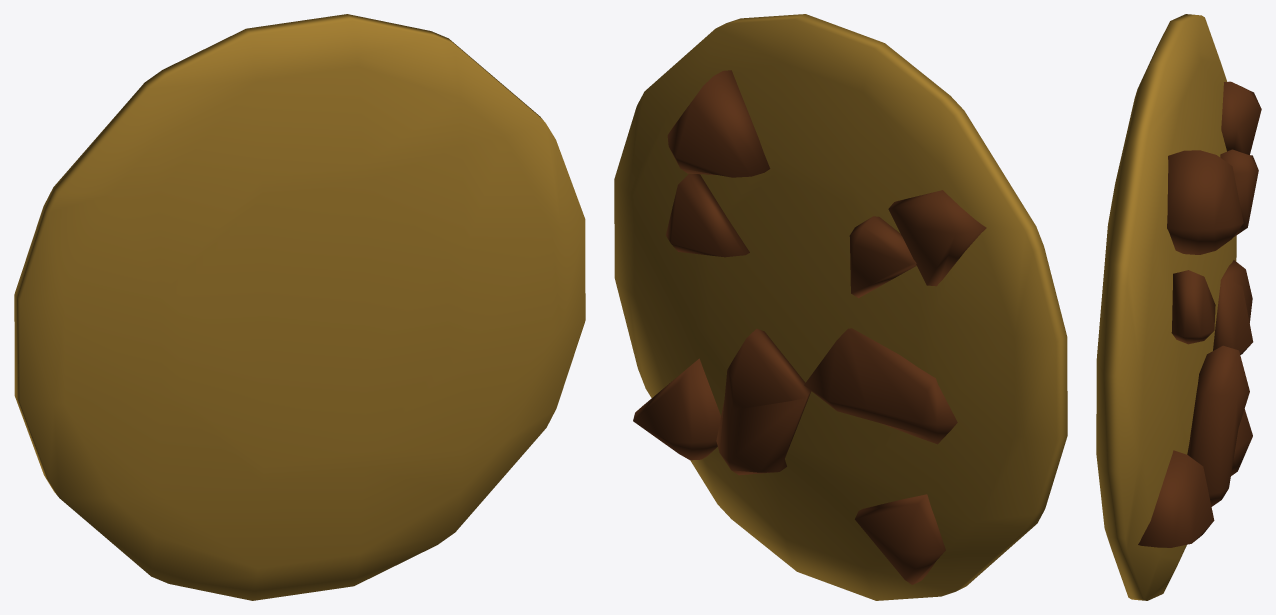
Rendered from Cookie colo gg.fbx.
The picture shows the model from 3 angles, left to right: view 1: azimuth 30°, elevation 25°; view 2: azimuth 150°, elevation 25°; view 3: azimuth 270°, elevation 25°; orthographic projection. The views are drawn at different scales.
Parts seen in each view (by area): view 1: Cookie; view 2: Cookie, Mball.002, Mball.001; view 3: Cookie, Mball.002, Mball.001.
Part boxes in pixels (x1,y1,x2,y2): Cookie: (14, 14, 585, 600); Cookie: (614, 14, 1067, 600); Mball.002: (667, 70, 945, 584); Mball.001: (633, 174, 986, 460); Cookie: (1096, 14, 1236, 600); Mball.002: (1167, 149, 1258, 506); Mball.001: (1138, 81, 1261, 547).
Size of the model in its own units: 278 by 293 by 82.99.
